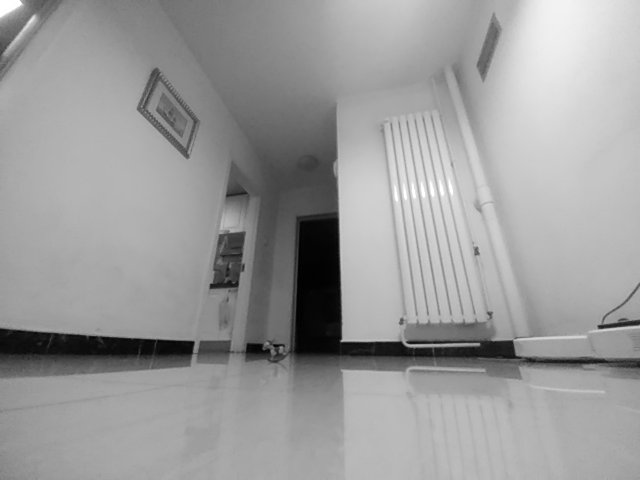toy: (262, 339, 290, 363)
